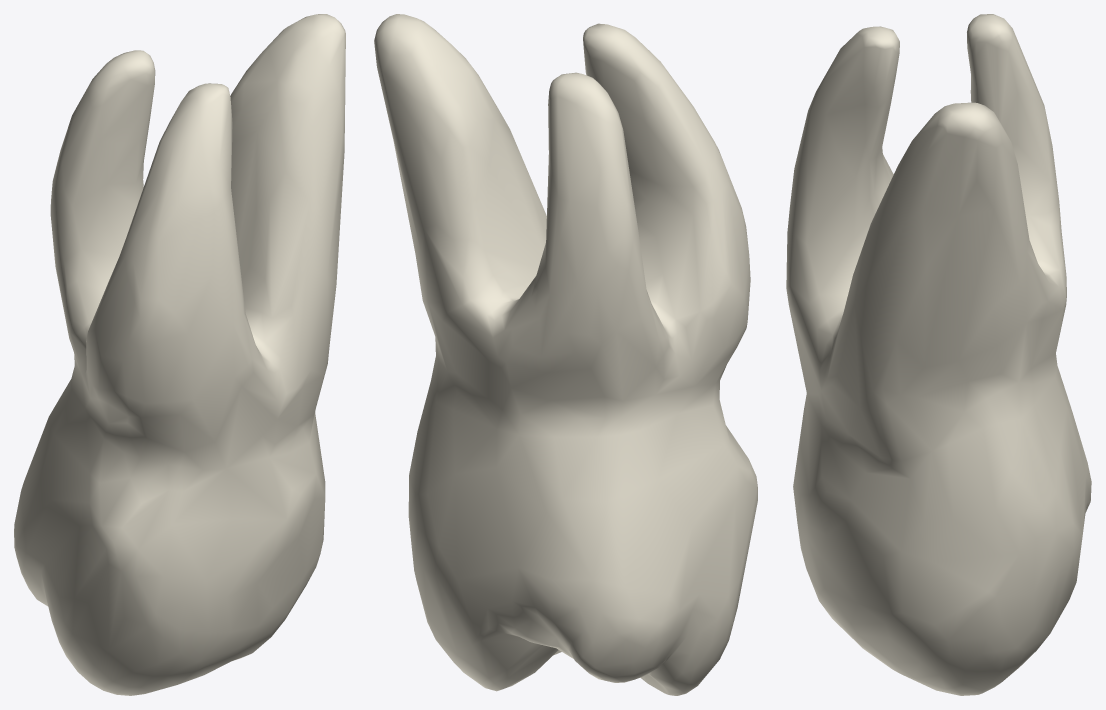
The picture shows the model from 3 angles, left to right: view 1: azimuth 30°, elevation 25°; view 2: azimuth 150°, elevation 25°; view 3: azimuth 270°, elevation 25°; orthographic projection. The views are drawn at different scales.
Visible parts, largest first — view 1: ZA_f00a764d68e29e75; view 2: ZA_f00a764d68e29e75; view 3: ZA_f00a764d68e29e75.
Boxes of the visible parts, left/top/right/bottom form: ZA_f00a764d68e29e75: left=14, top=14, right=345, bottom=695; ZA_f00a764d68e29e75: left=374, top=14, right=757, bottom=695; ZA_f00a764d68e29e75: left=786, top=14, right=1091, bottom=695.
Size of the model in its own units: 0.0116 by 0.0221 by 0.00961.
